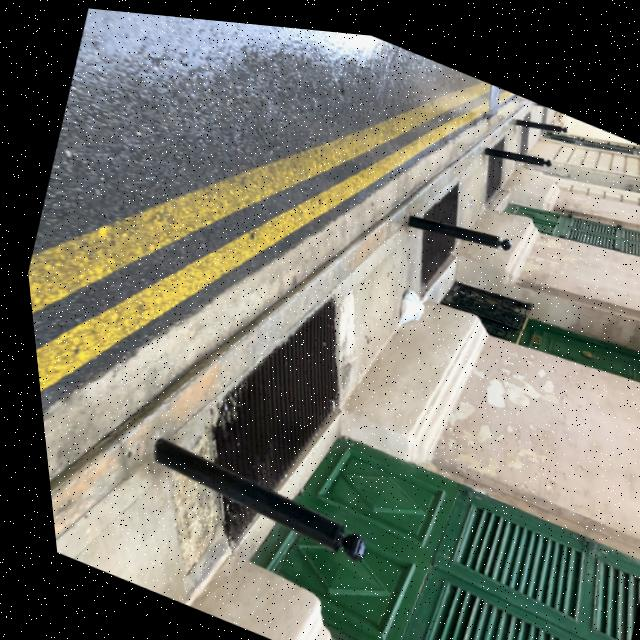Organic Waste -White Bag-: (382, 279, 425, 330)
